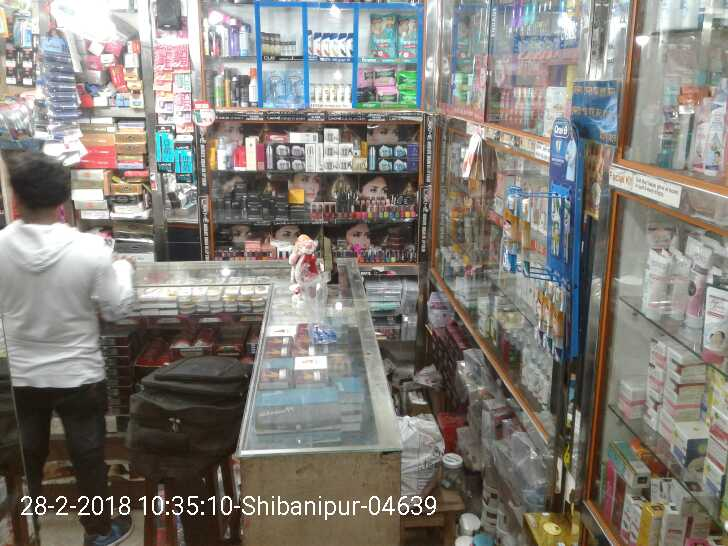venus: (284, 71, 303, 106), (266, 70, 284, 106)
